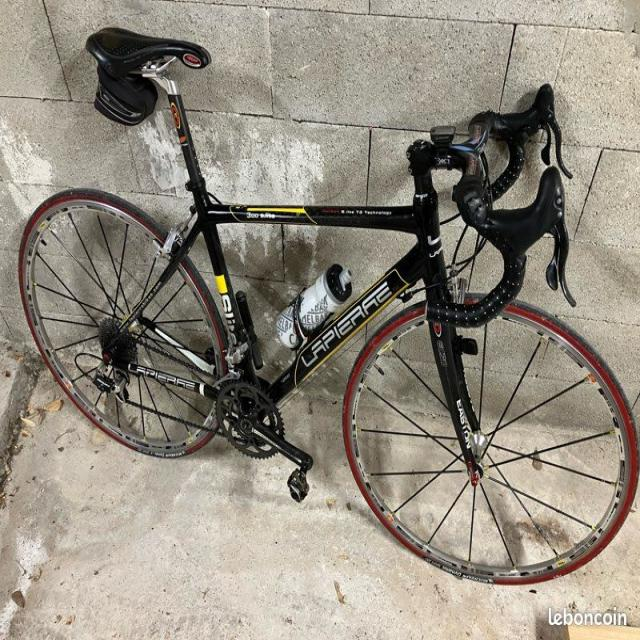Bike: (19, 28, 639, 583)
